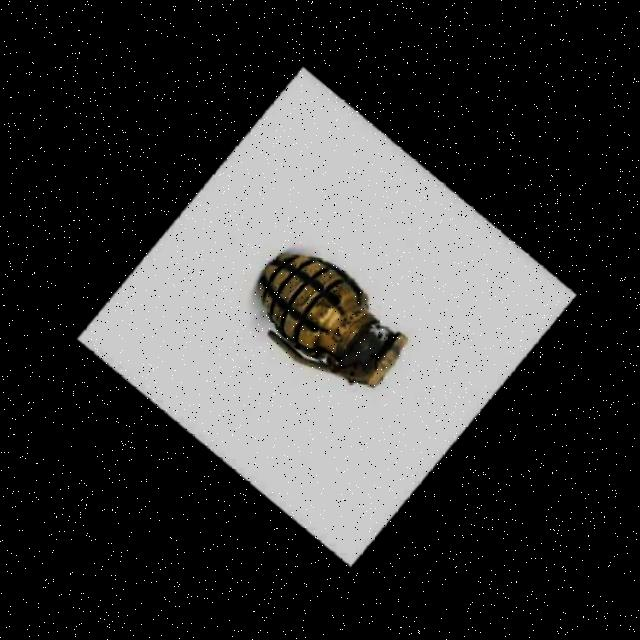grenade: (227, 215, 445, 418)
